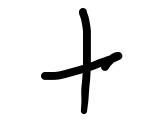plus: (41, 8, 123, 114)
